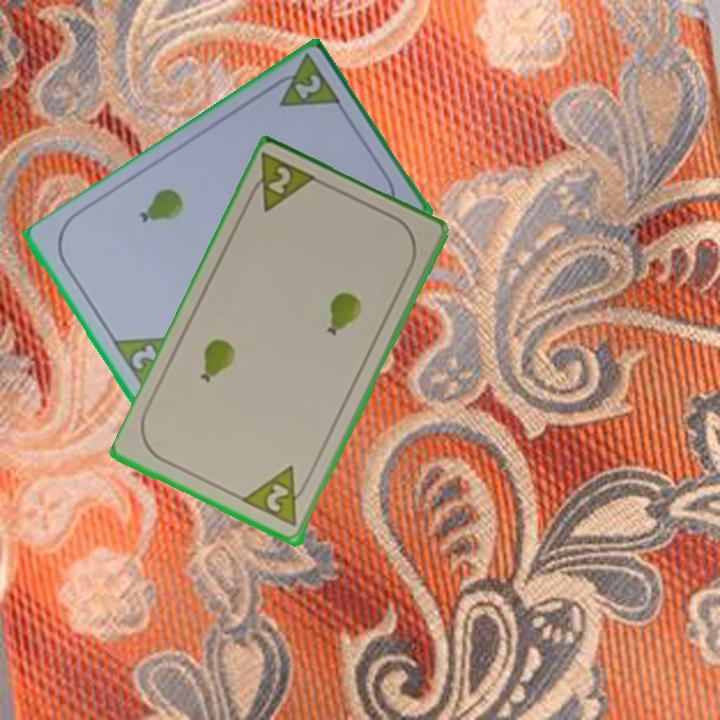2p: (242, 150, 322, 216), (263, 52, 345, 111), (127, 341, 161, 374), (262, 480, 293, 515)
